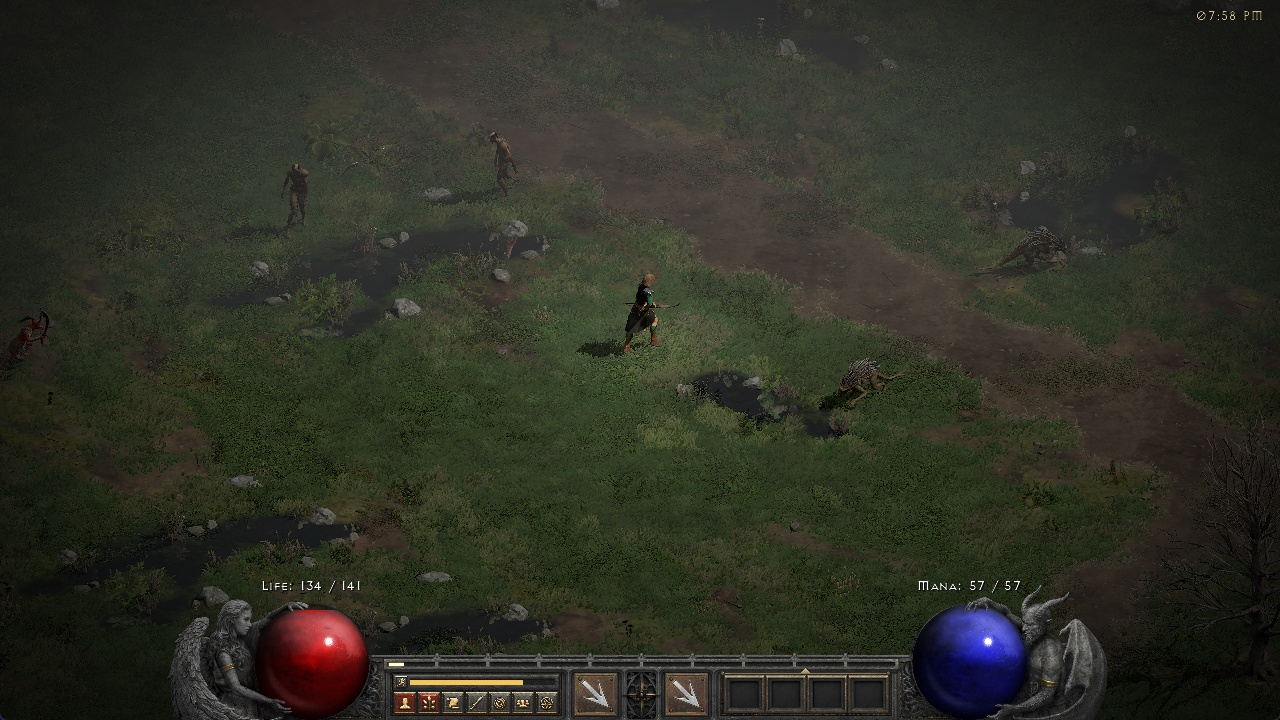fallen: (4, 305, 55, 371)
